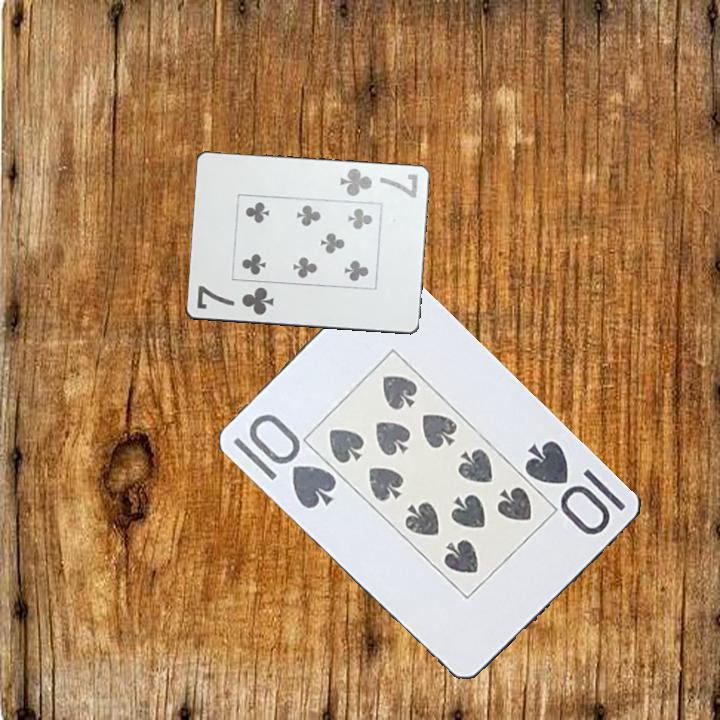7c: (336, 165, 420, 201), (193, 282, 276, 318)
Ts: (230, 410, 341, 512), (521, 436, 630, 539)
